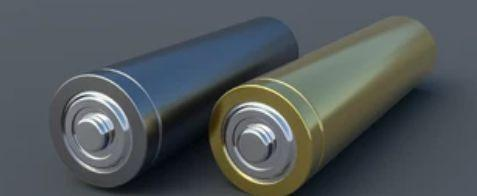battery: (48, 17, 295, 189), (210, 14, 435, 195)
